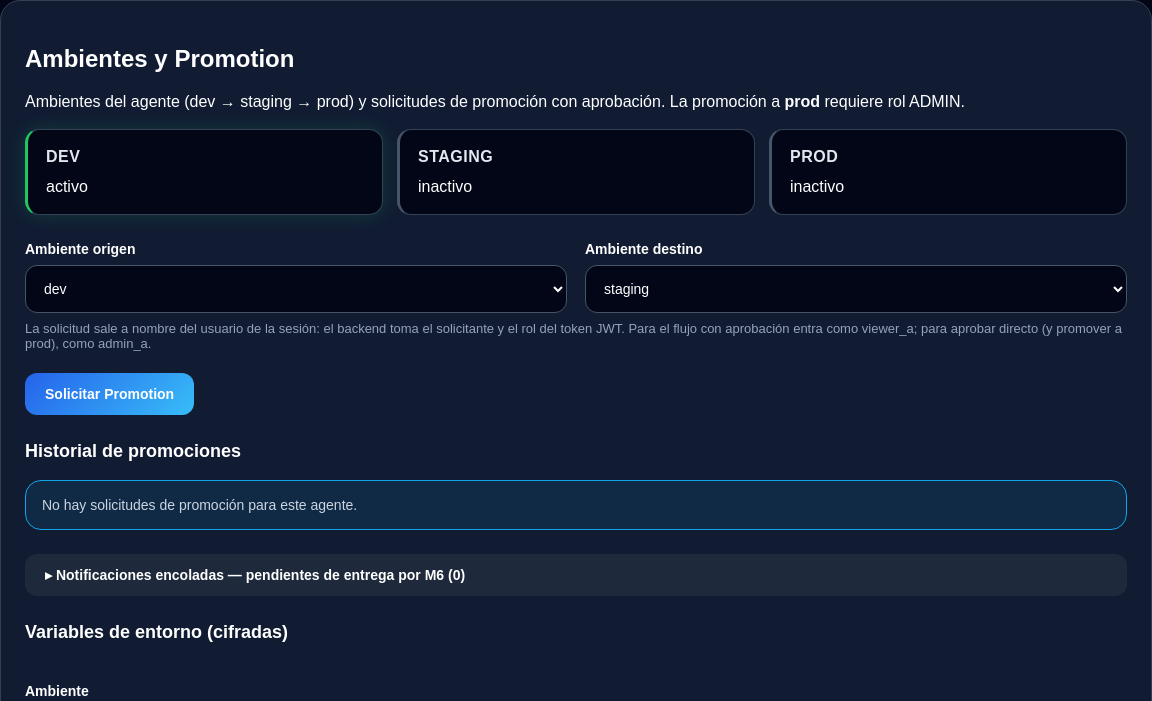
Test case: PanelAmbientes › sin sesión el promote corta en el cliente con un hint
Click the button "Solicitar Promotion" at coordinates (110, 394), box top-left (25, 373), bottom-right (194, 415)
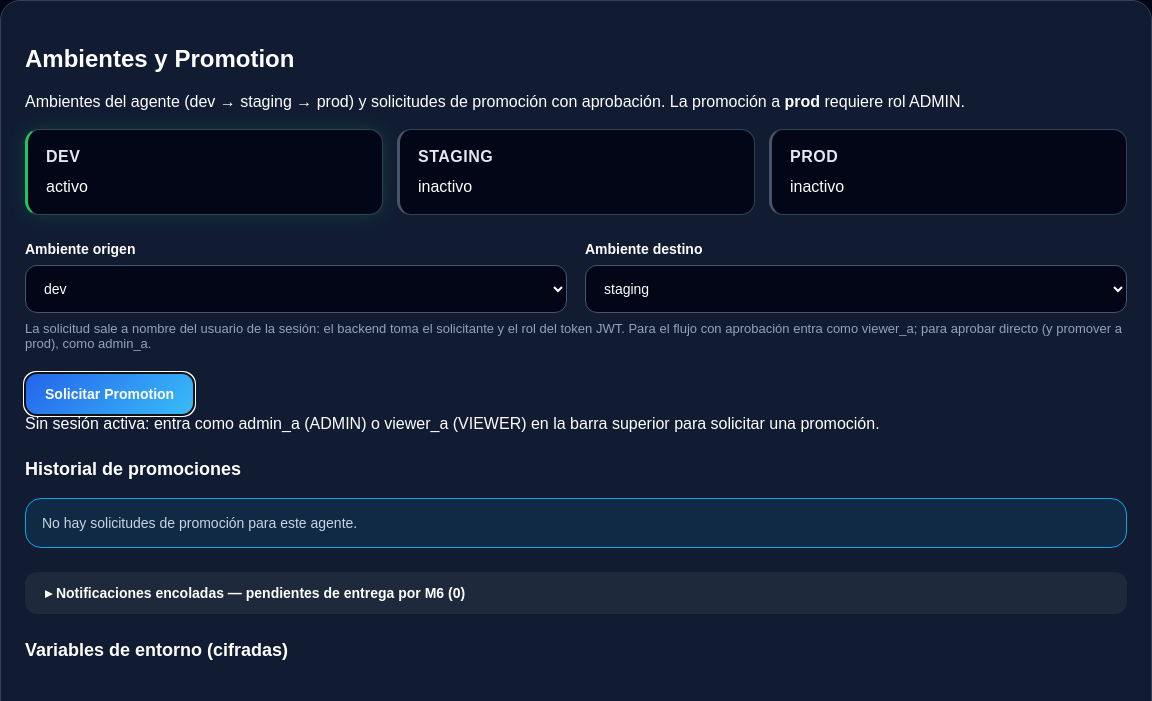
Expected: the text "Sin sesión activa" is shown, top-left (25, 415), bottom-right (880, 432)
